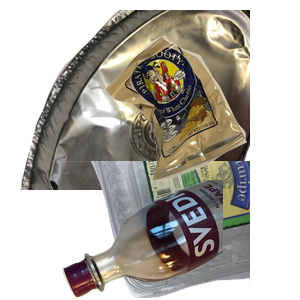glass: (60, 180, 300, 300)
metal: (18, 10, 258, 190)
plastic: (23, 161, 263, 300)
trash: (101, 33, 300, 206)
